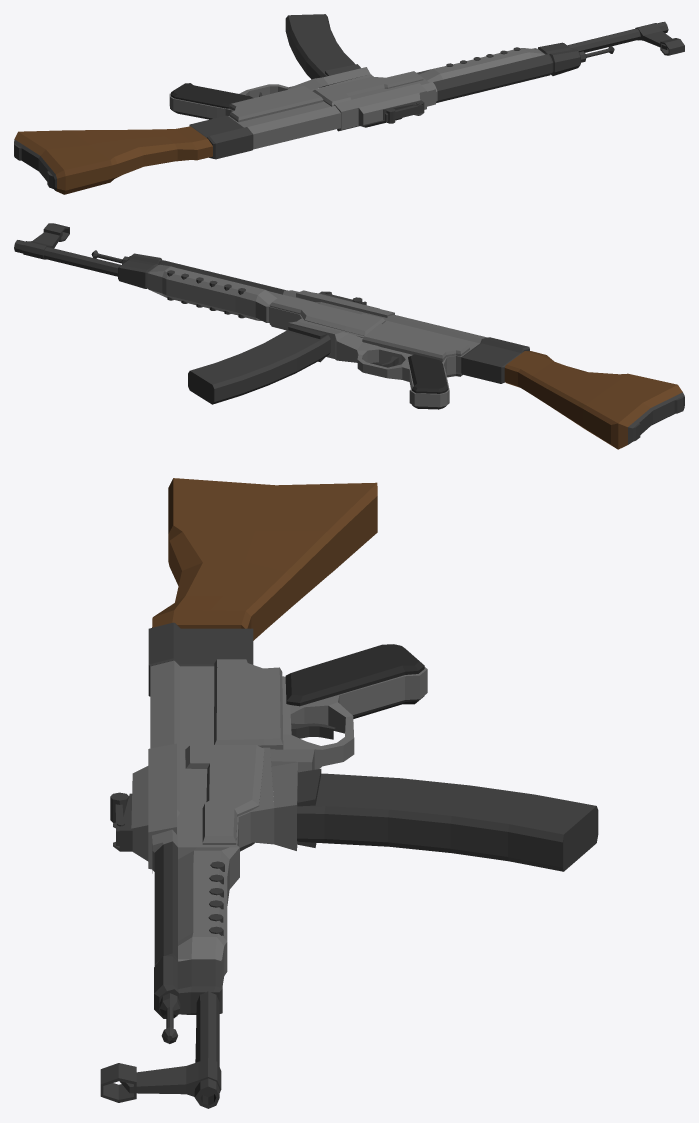
File: Stg44_3D.glb
The picture shows the model from 3 angles, top to bottom: view 1: azimuth 30°, elevation 25°; view 2: azimuth 150°, elevation 25°; view 3: azimuth 270°, elevation 25°; orthographic projection. The views are drawn at different scales.
Parts seen in each view (by area): view 1: Stg44 (1); view 2: Stg44 (1); view 3: Stg44 (1).
Boxes of the visible parts, left/top/right/bottom form: Stg44 (1): left=14, top=14, right=684, bottom=194; Stg44 (1): left=14, top=223, right=684, bottom=449; Stg44 (1): left=100, top=478, right=598, bottom=1108.
Size of the model in its own units: 1.05 by 0.0454 by 0.3667.
Materials: 1 (1 with a texture image).
